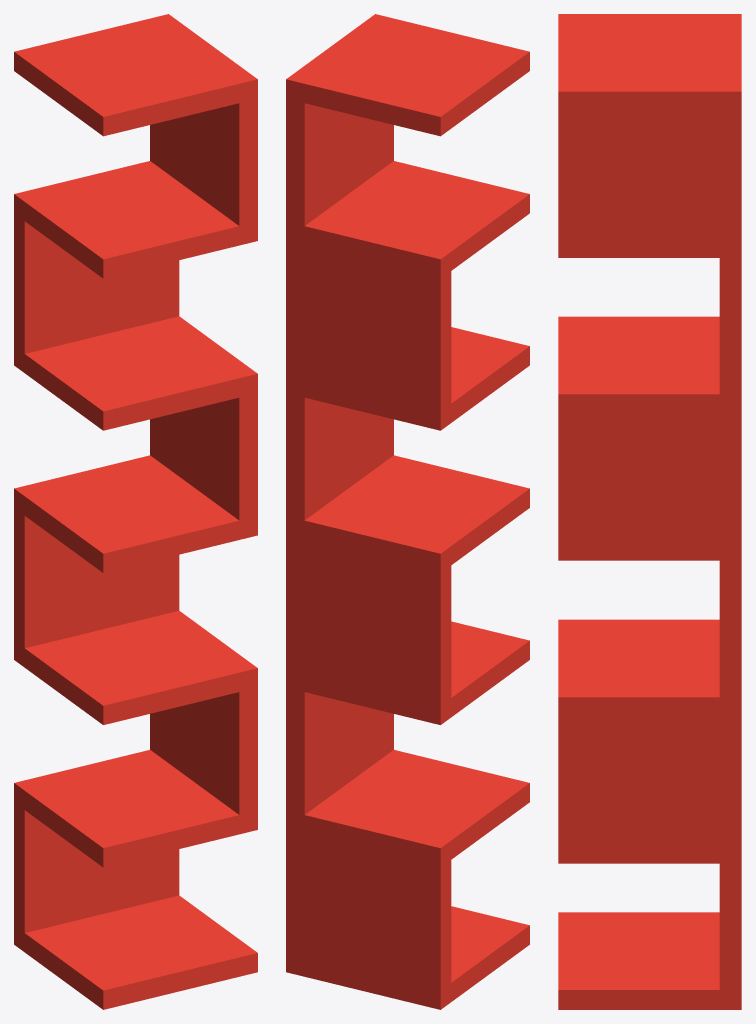
File: shelf_035.glb
The picture shows the model from 3 angles, left to right: view 1: azimuth 30°, elevation 25°; view 2: azimuth 150°, elevation 25°; view 3: azimuth 270°, elevation 25°; orthographic projection. The views are drawn at different scales.
Parts seen in each view (by area): view 1: shelf_035; view 2: shelf_035; view 3: shelf_035.
Boxes of the visible parts, bbox=[...] form: shelf_035: bbox=[14, 14, 257, 1009]; shelf_035: bbox=[286, 14, 529, 1009]; shelf_035: bbox=[558, 14, 741, 1009].
Bounding box in the file's own units: 0.3729 × 2.06 × 0.3729.
1 material, 1 textured.
